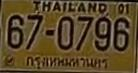0: (57, 15, 73, 49)
6: (7, 14, 23, 48), (113, 17, 128, 50)
7: (26, 14, 43, 49), (76, 15, 93, 50)
9: (95, 16, 111, 50)
BKK: (24, 53, 111, 71)
